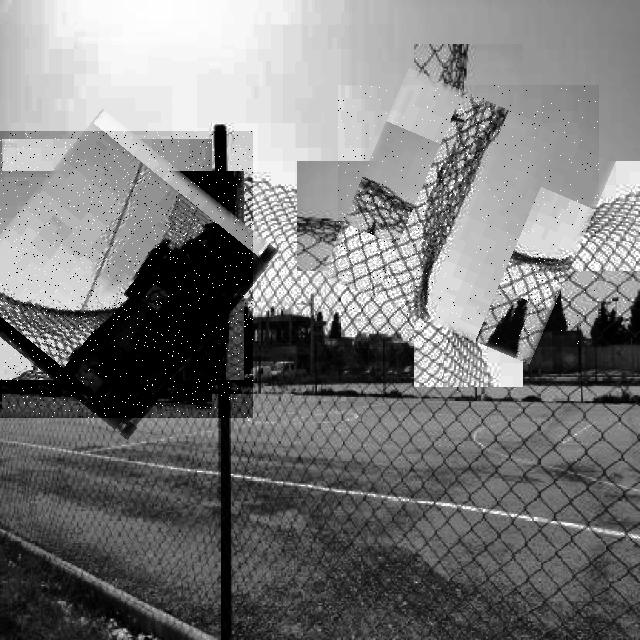anomaly-fence: (0, 131, 253, 418), (338, 85, 599, 347)
